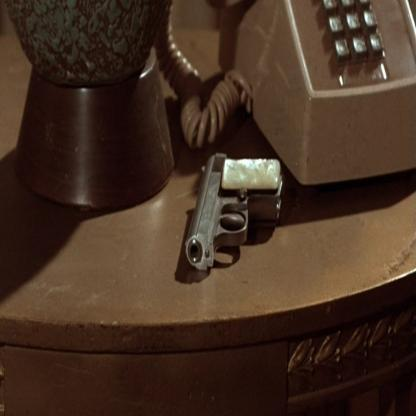gun: (180, 117, 292, 282)
